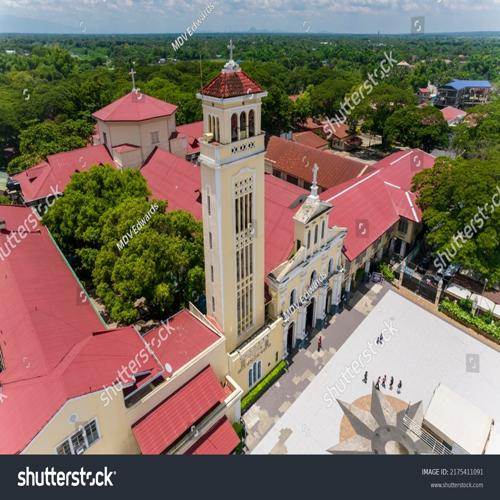Manaoag Church: (195, 32, 351, 392)
